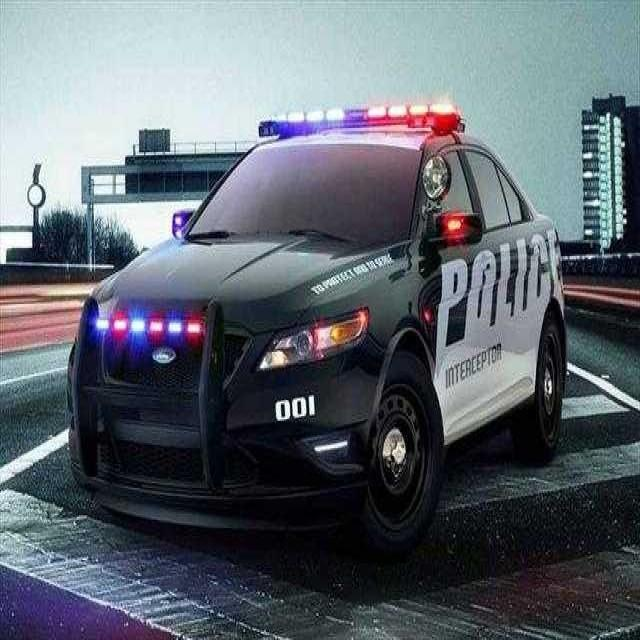firetruck: (65, 74, 578, 559)
